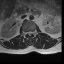CCS_normal: (28, 29, 30, 37)
LFS_normal: (32, 29, 34, 35)
LLS_normal: (30, 29, 32, 36)
RFS_normal: (25, 29, 26, 36)
RLS_normal: (26, 29, 28, 36)
